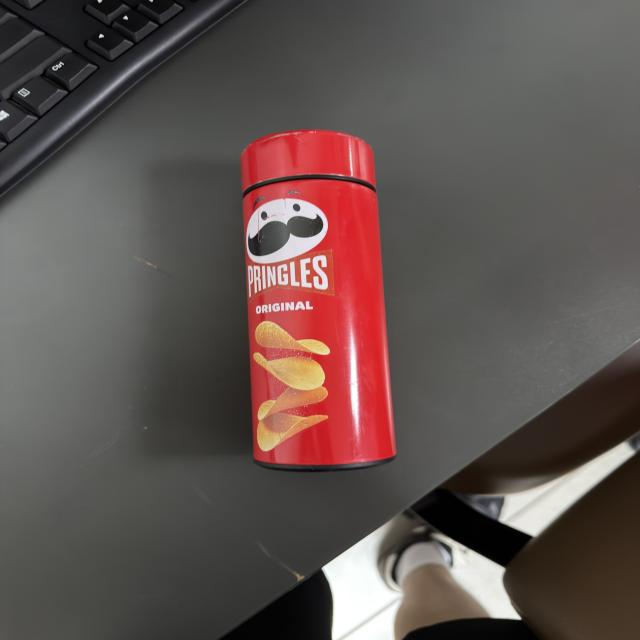water bottle: (241, 130, 396, 470)
